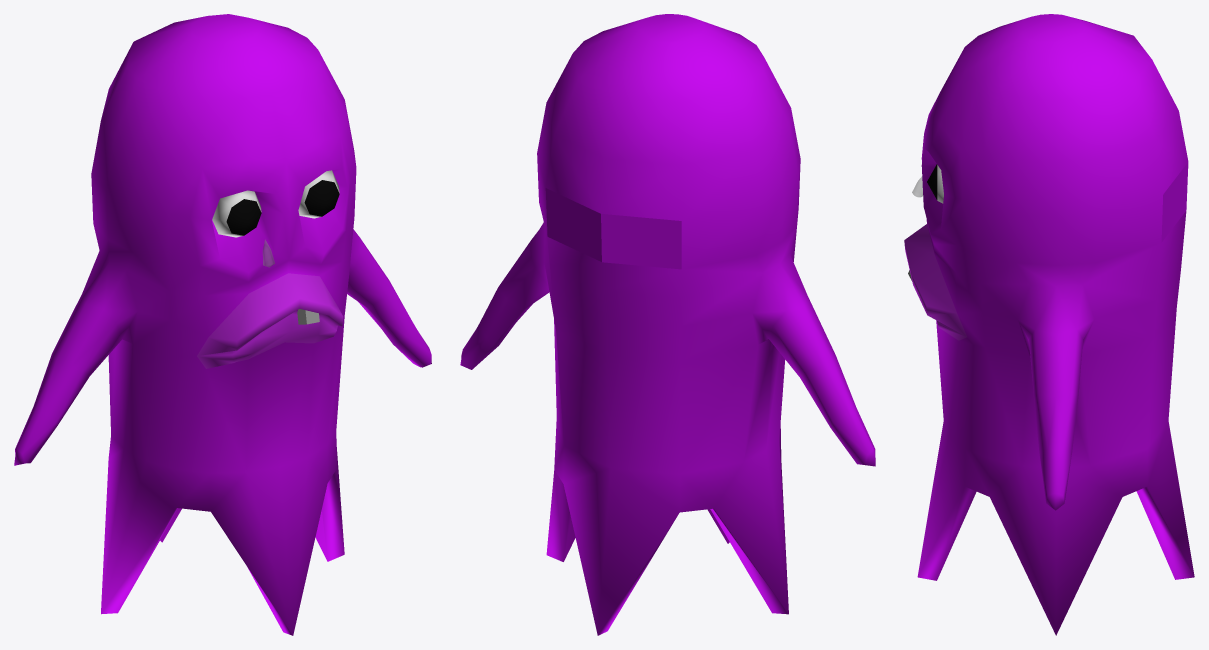
Rendered from pinky.FBX.
3 views of the same model, side by side, from view 1: azimuth 30°, elevation 25°; view 2: azimuth 150°, elevation 25°; view 3: azimuth 270°, elevation 25° (orthographic).
Visible parts, largest first — view 1: pInky final; view 2: pInky final; view 3: pInky final.
Boxes of the visible parts, box(x1,y1,x2,y2) form: pInky final: box(14, 14, 431, 635); pInky final: box(460, 14, 875, 635); pInky final: box(904, 14, 1194, 635).
Size of the model in its own units: 2.09 by 2.68 by 1.28.
